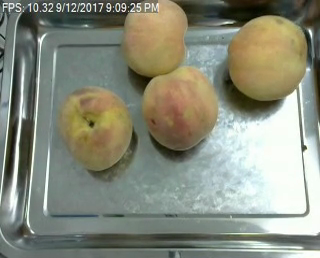Peach: (227, 13, 309, 101), (142, 65, 218, 150), (57, 86, 132, 170), (122, 0, 190, 79)
